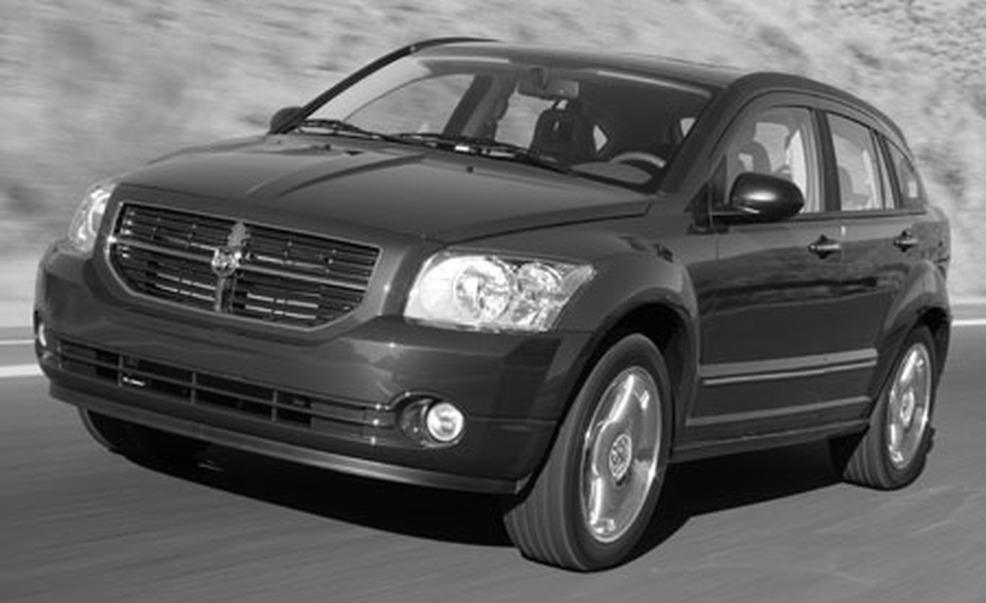car: (34, 36, 954, 573)
